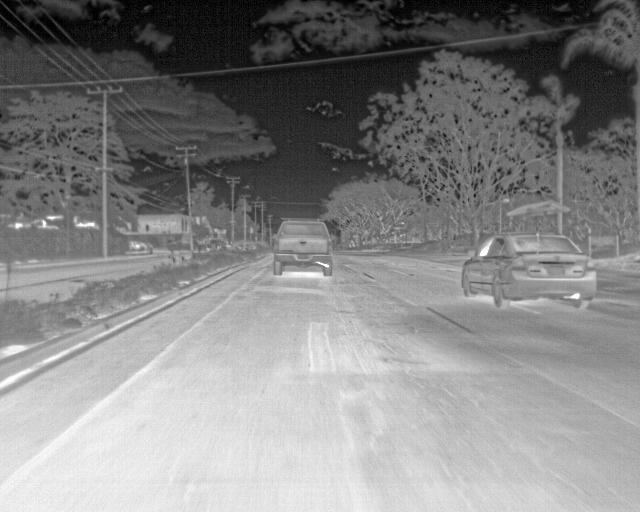car: (460, 230, 598, 313), (271, 218, 335, 279), (126, 240, 155, 255)
